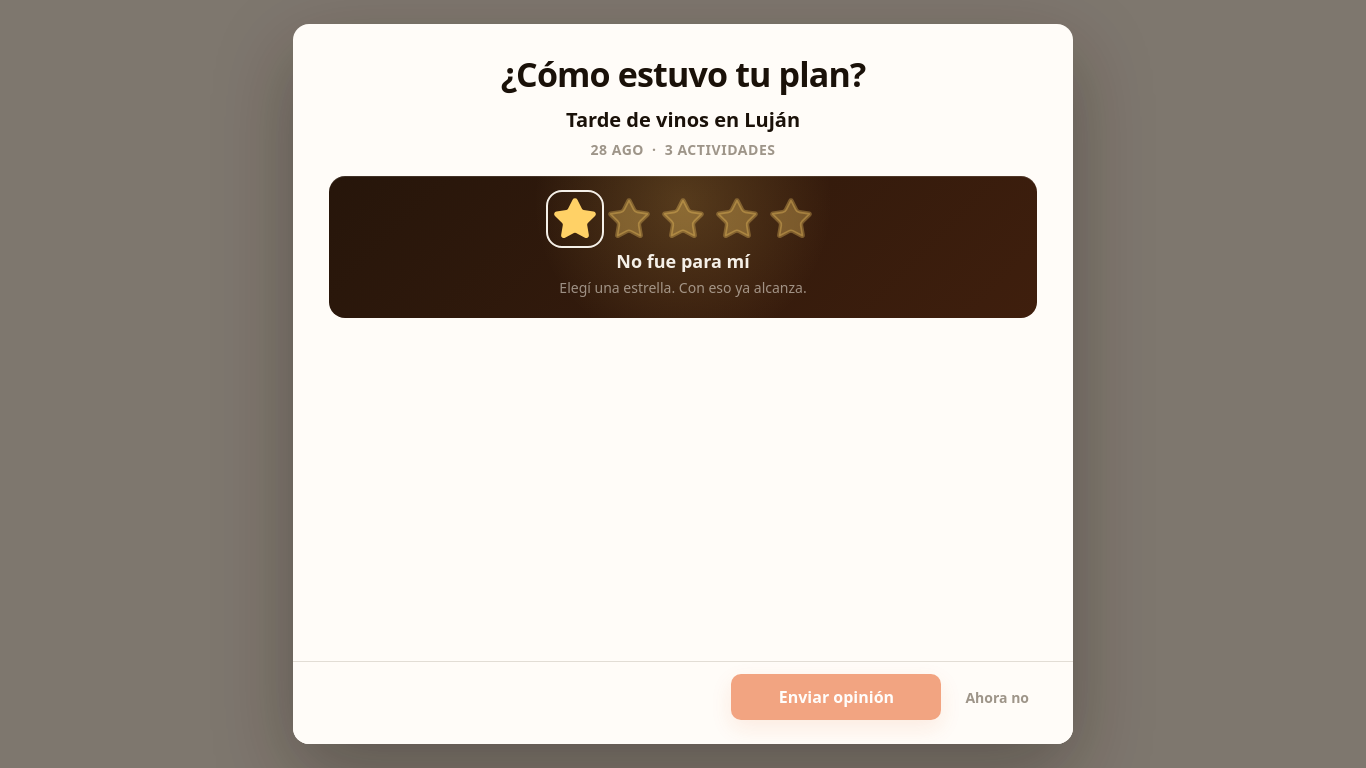
Test: FeedbackDialog (CU23) › keeps the submit action disabled until a star is chosen
Expected: the button "Enviar opinión" is disabled, 731,674 -> 941,720
Click the radio button named "4 estrellas — Muy bueno": (737, 219) 712,194 -> 762,244
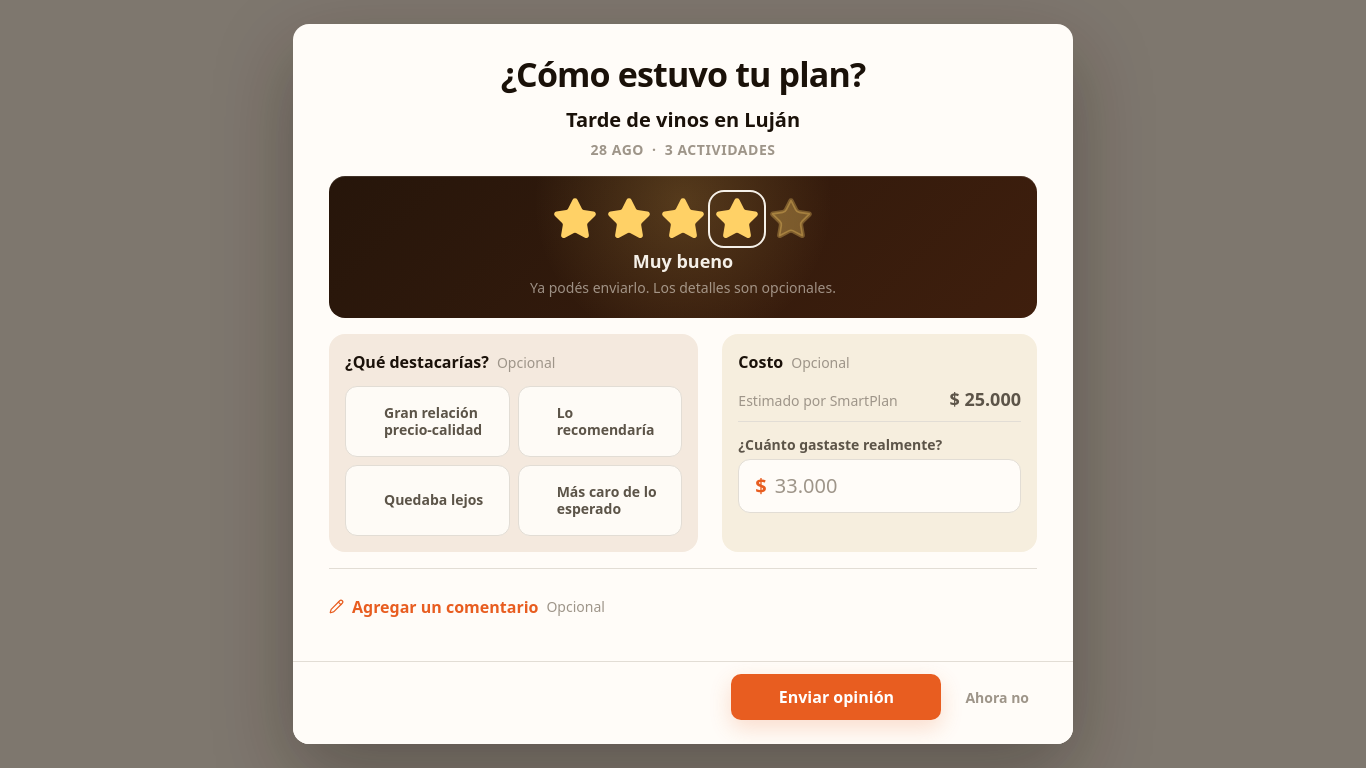
Result: the button "Enviar opinión" is enabled at 731,674 -> 941,720
